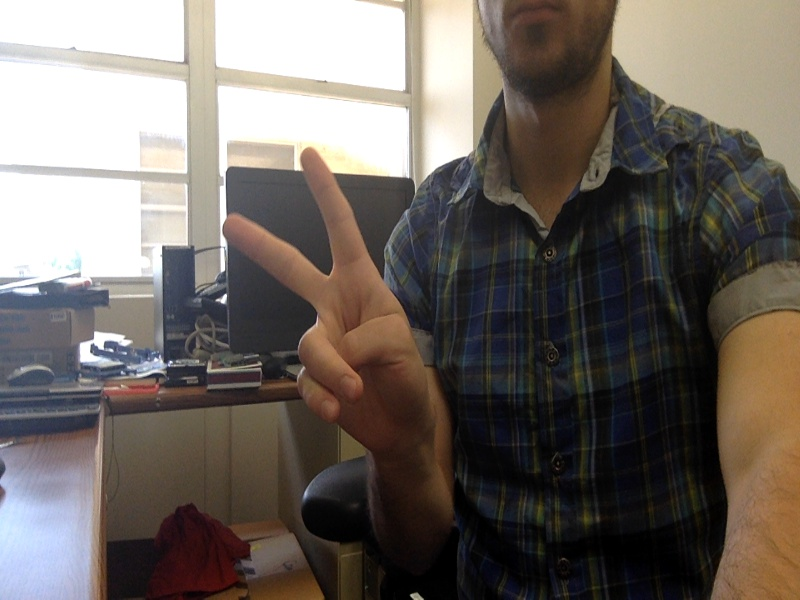2-hand: (219, 147, 432, 470)
